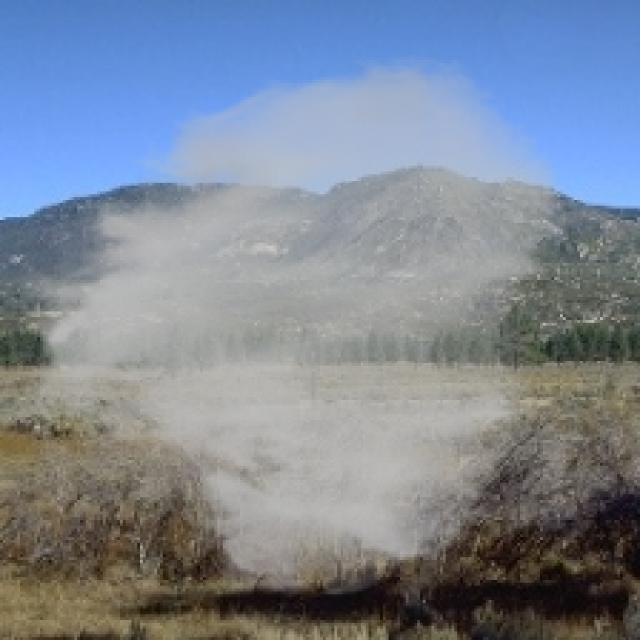smoke: (3, 51, 571, 603)
